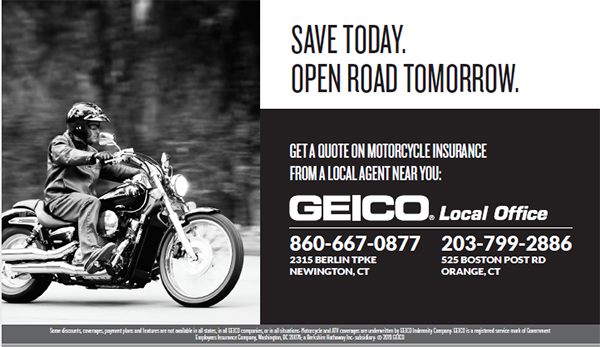geico: (285, 192, 436, 224)
